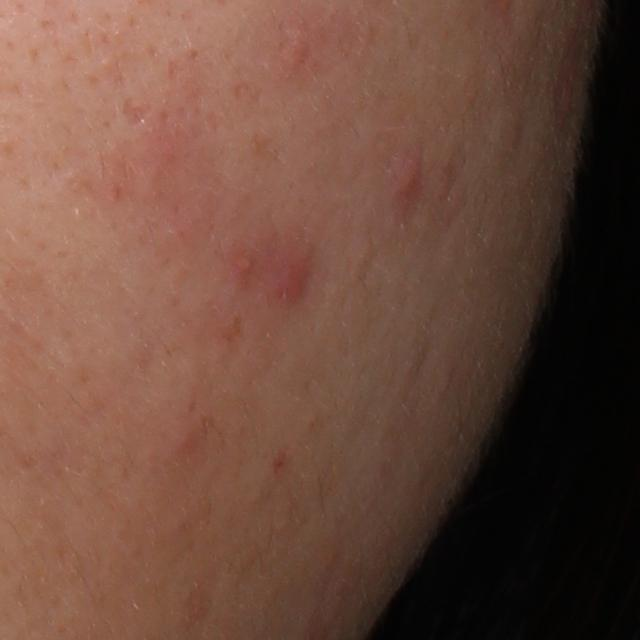atrophic_scar: (120, 94, 156, 130)
papule: (267, 245, 313, 301), (393, 162, 425, 200)
